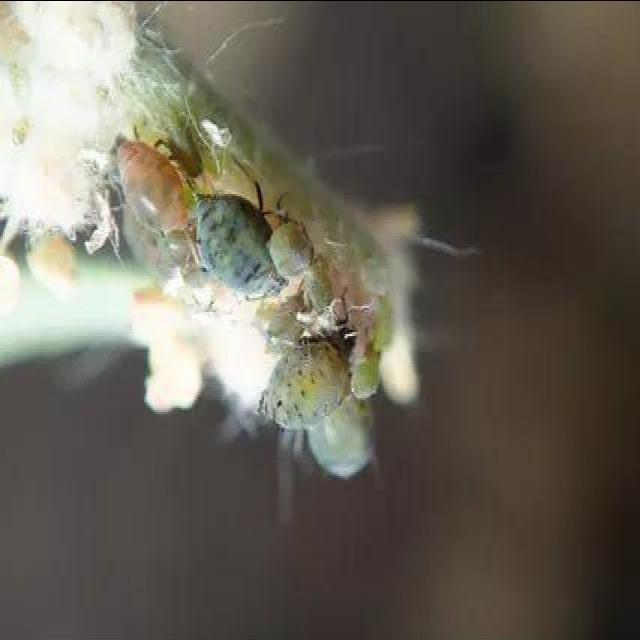aphid: (131, 180, 345, 300), (266, 310, 372, 445)
